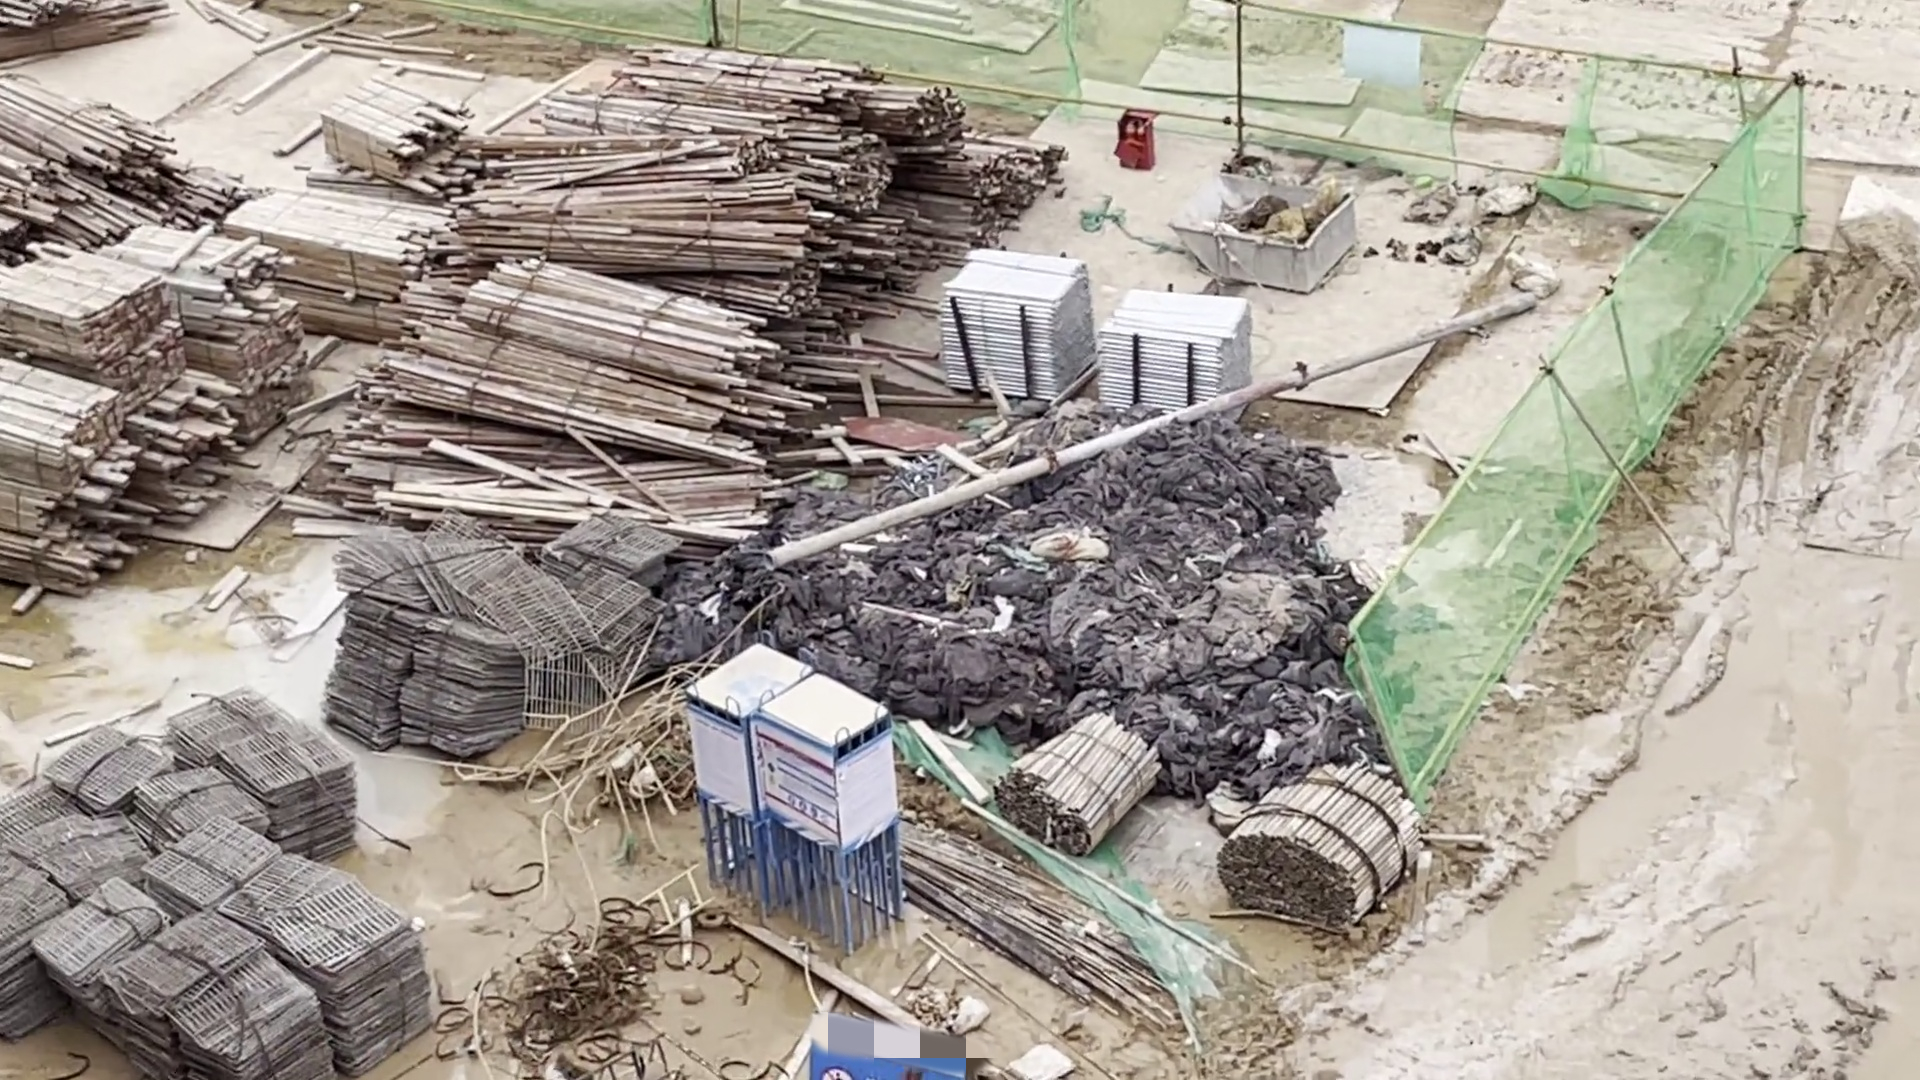hopper: (1167, 171, 1356, 294)
scaffold: (1100, 280, 1267, 423), (940, 249, 1089, 400)
wood: (452, 41, 1023, 286), (340, 272, 781, 526), (102, 218, 323, 556), (1, 73, 247, 255), (225, 179, 488, 331), (1, 357, 148, 600), (1218, 767, 1418, 923), (1, 239, 189, 380), (985, 708, 1151, 845)
